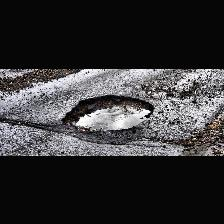pothole: (60, 93, 156, 131)
